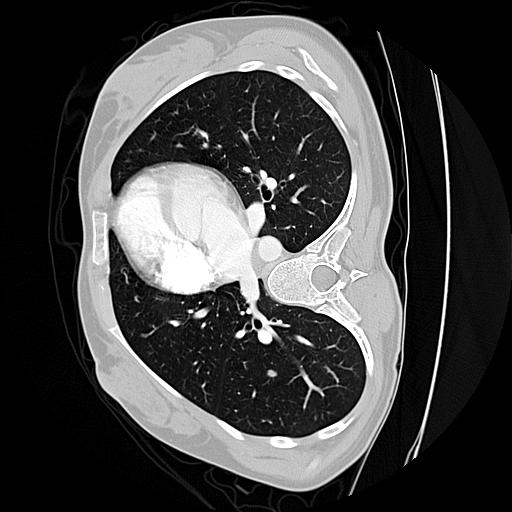nodule: (265, 367, 280, 382)
